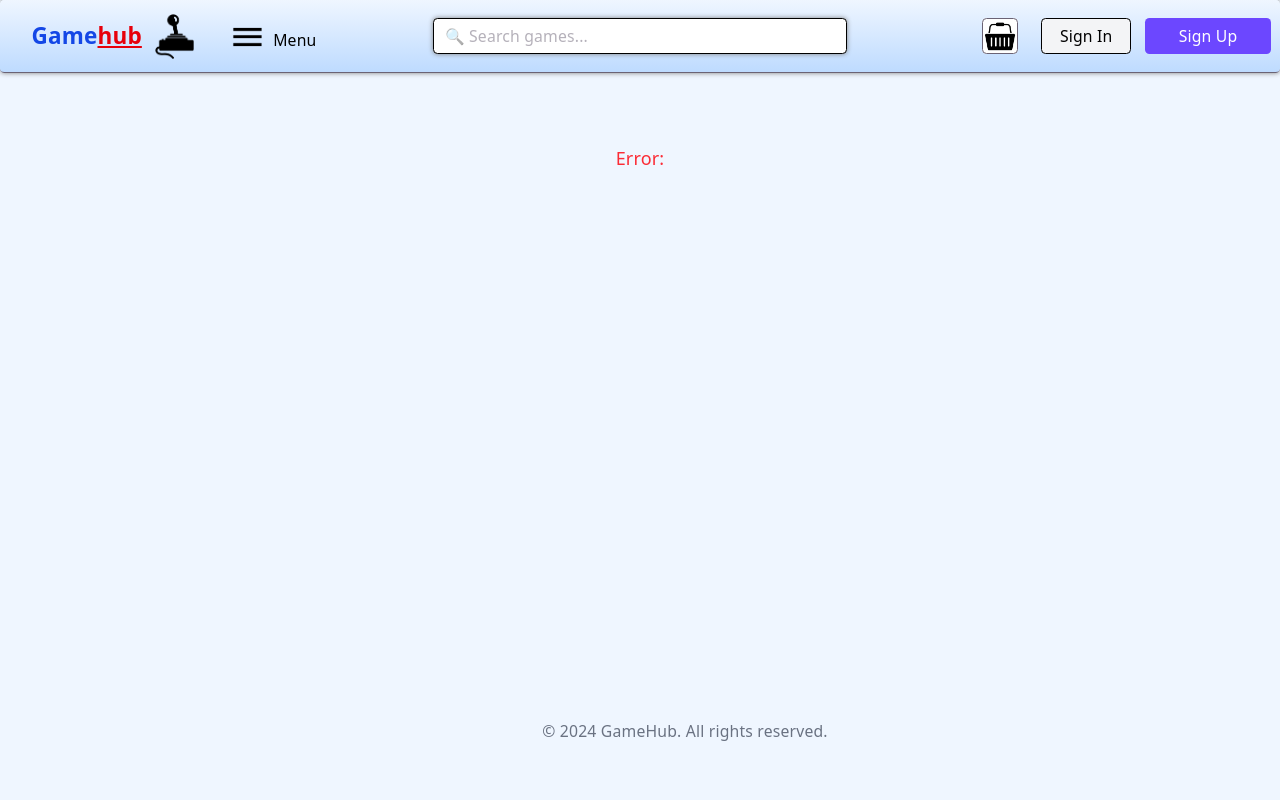
Test: Browse and Search › user clears search and dropdown disappears
The width and height of the screenshot is (1280, 800).
Type "a" into the field with placeholder "🔍 Search games...".
click(641, 36); type("a")  # box [433, 18, 848, 54]
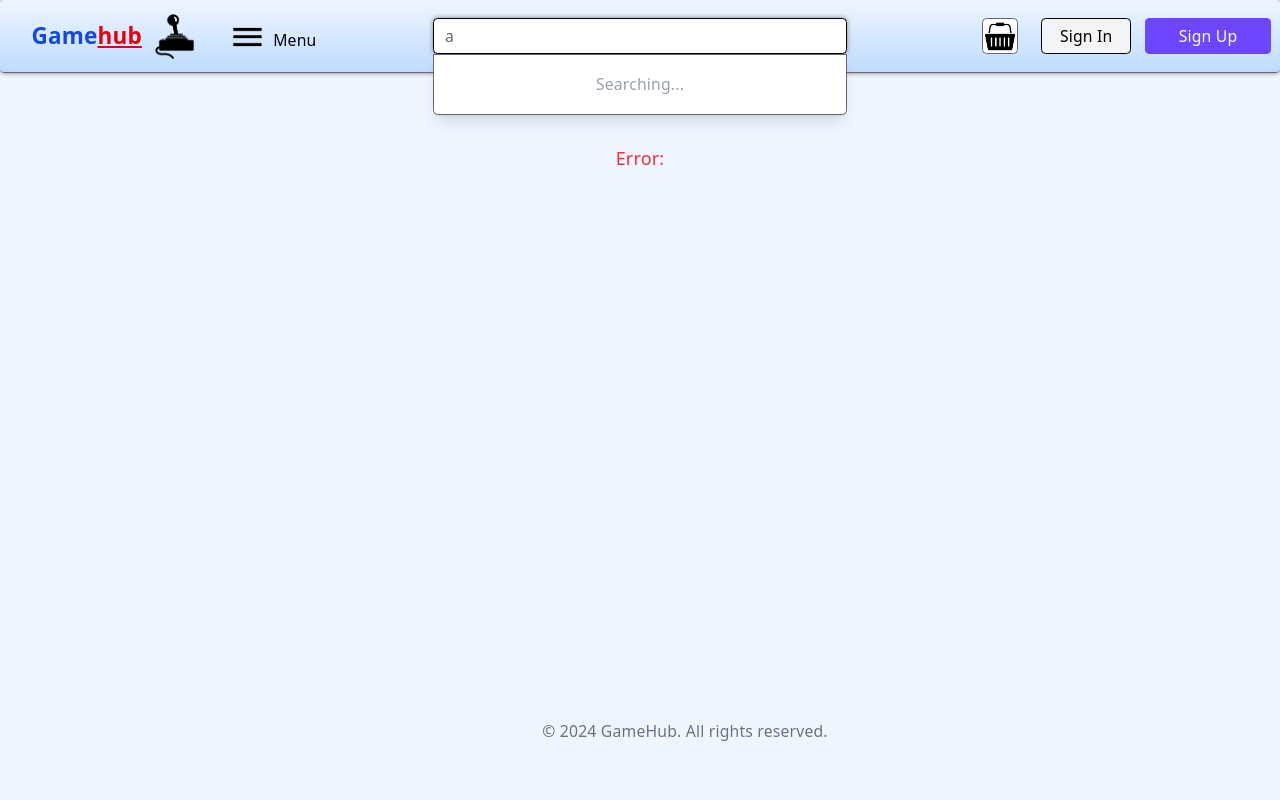
Clear the field at (641, 36), box [433, 18, 848, 54]
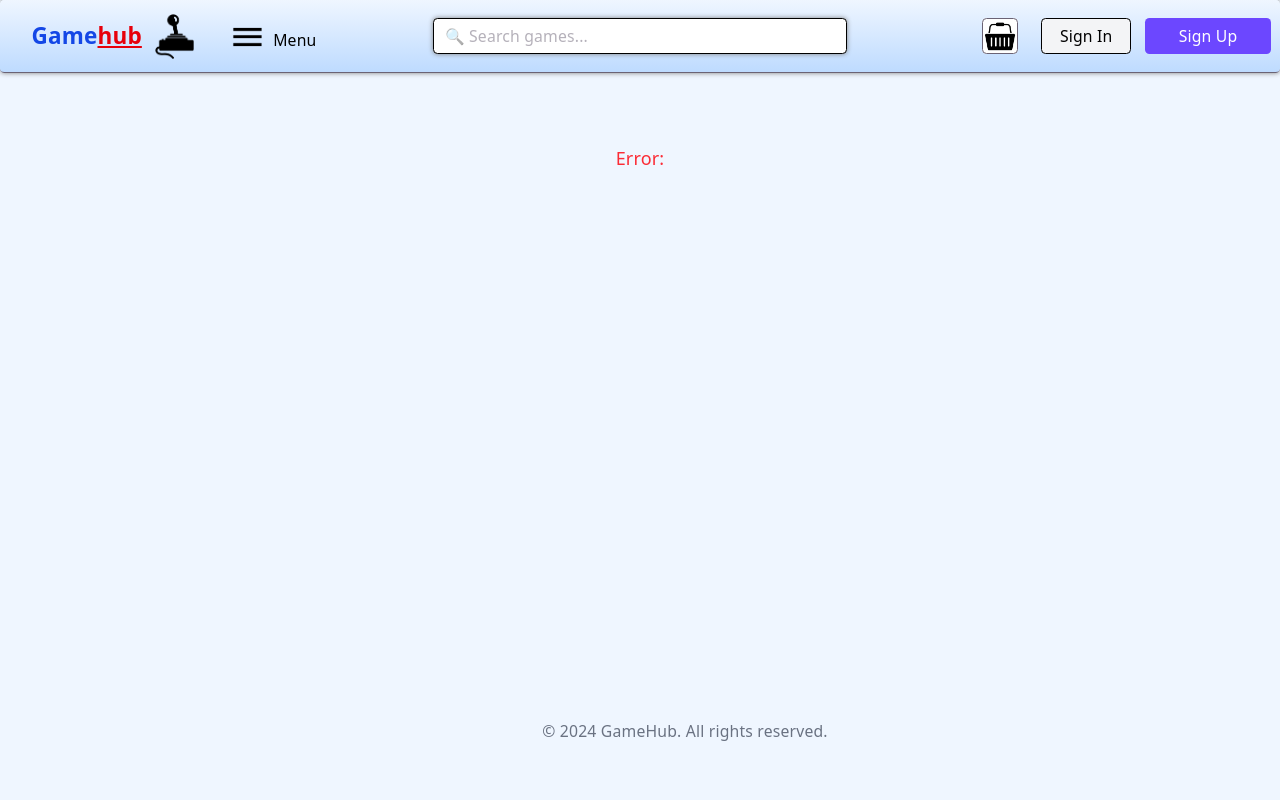
Result: the element with test id "search-dropdown" is gone
